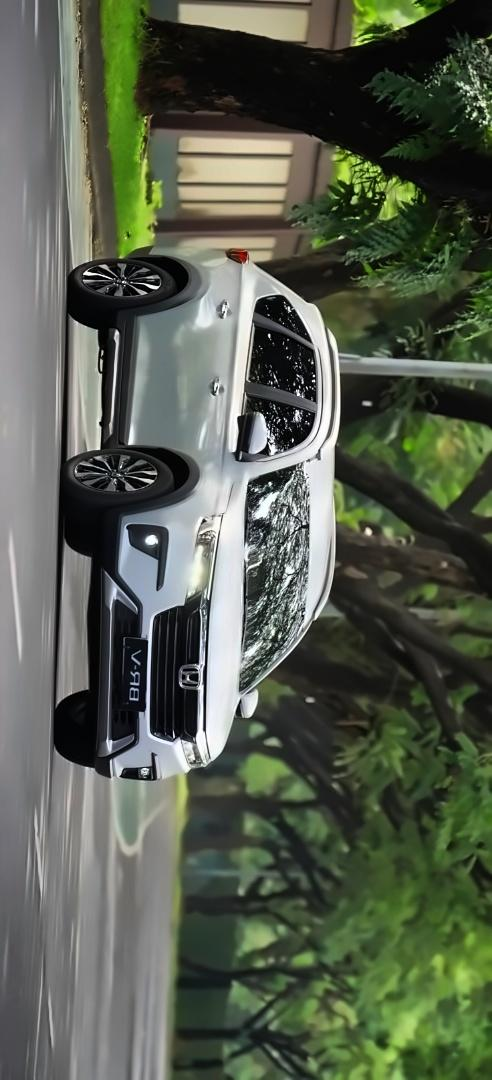Car hood: (203, 480, 243, 770)
Driver-s door - -F-R-: (113, 371, 326, 449)
Fender - -F-R-: (108, 439, 253, 523)
Fender - -R-R-: (157, 256, 260, 305)
Front bumper: (86, 499, 187, 787)
Headlight - -L-: (172, 720, 219, 777)
Headlight - -R-: (183, 509, 227, 608)
Passenger-s door - -R-R-: (112, 293, 328, 389)
Rear bumper: (117, 232, 194, 277)
Rear light - -R-: (215, 242, 255, 272)
Side bumper - -R-: (95, 299, 132, 454)
Side mirror - -L-: (233, 686, 266, 726)
Side mirror - -R-: (231, 409, 271, 465)
